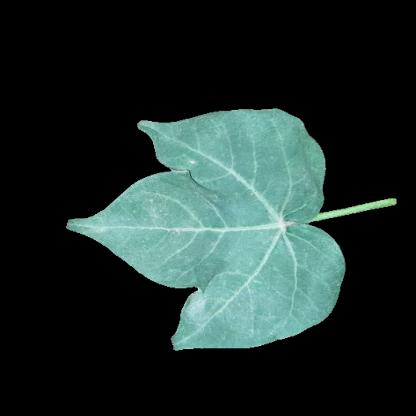healthy: (149, 188, 315, 264), (204, 261, 304, 335), (194, 118, 295, 186), (106, 205, 146, 252)
